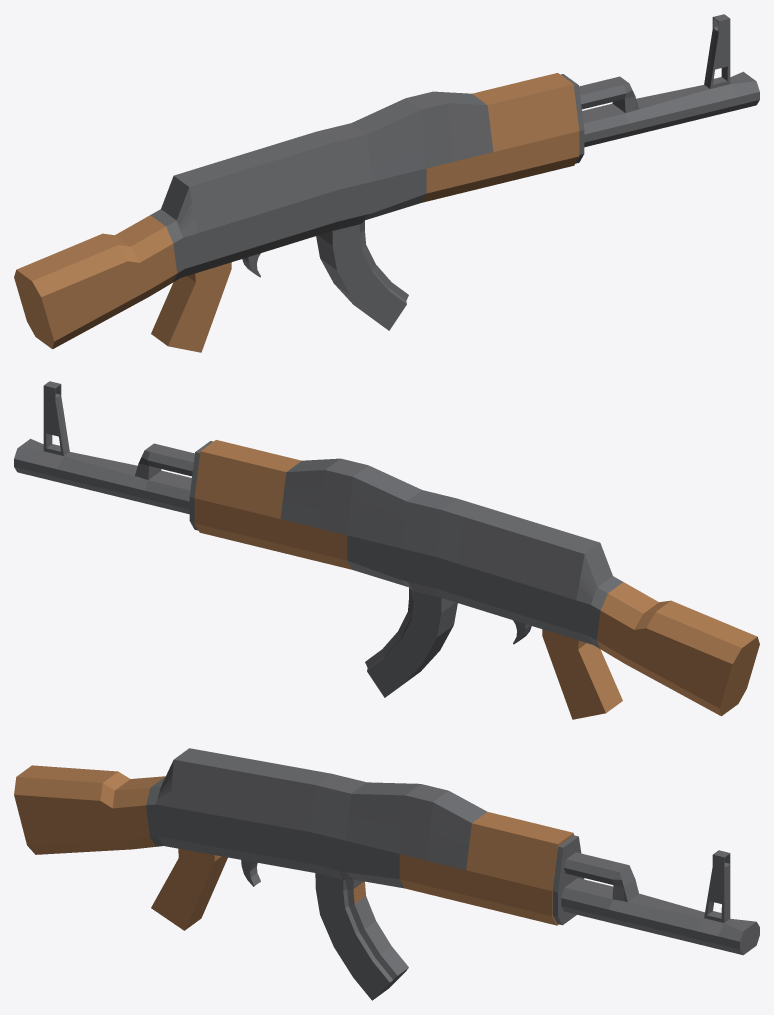
3 renders of one model, top to bottom at view 1: azimuth 30°, elevation 25°; view 2: azimuth 150°, elevation 25°; view 3: azimuth 330°, elevation 25°, orthographic.
Visible parts, largest first — view 1: AK; view 2: AK; view 3: AK.
Part boxes in pixels (x1,y1,x2,y2): AK: (14,14,759,352); AK: (14,381,759,719); AK: (14,748,759,1000).
Bounding box in the file's own units: 1063 × 313 × 69.18.
